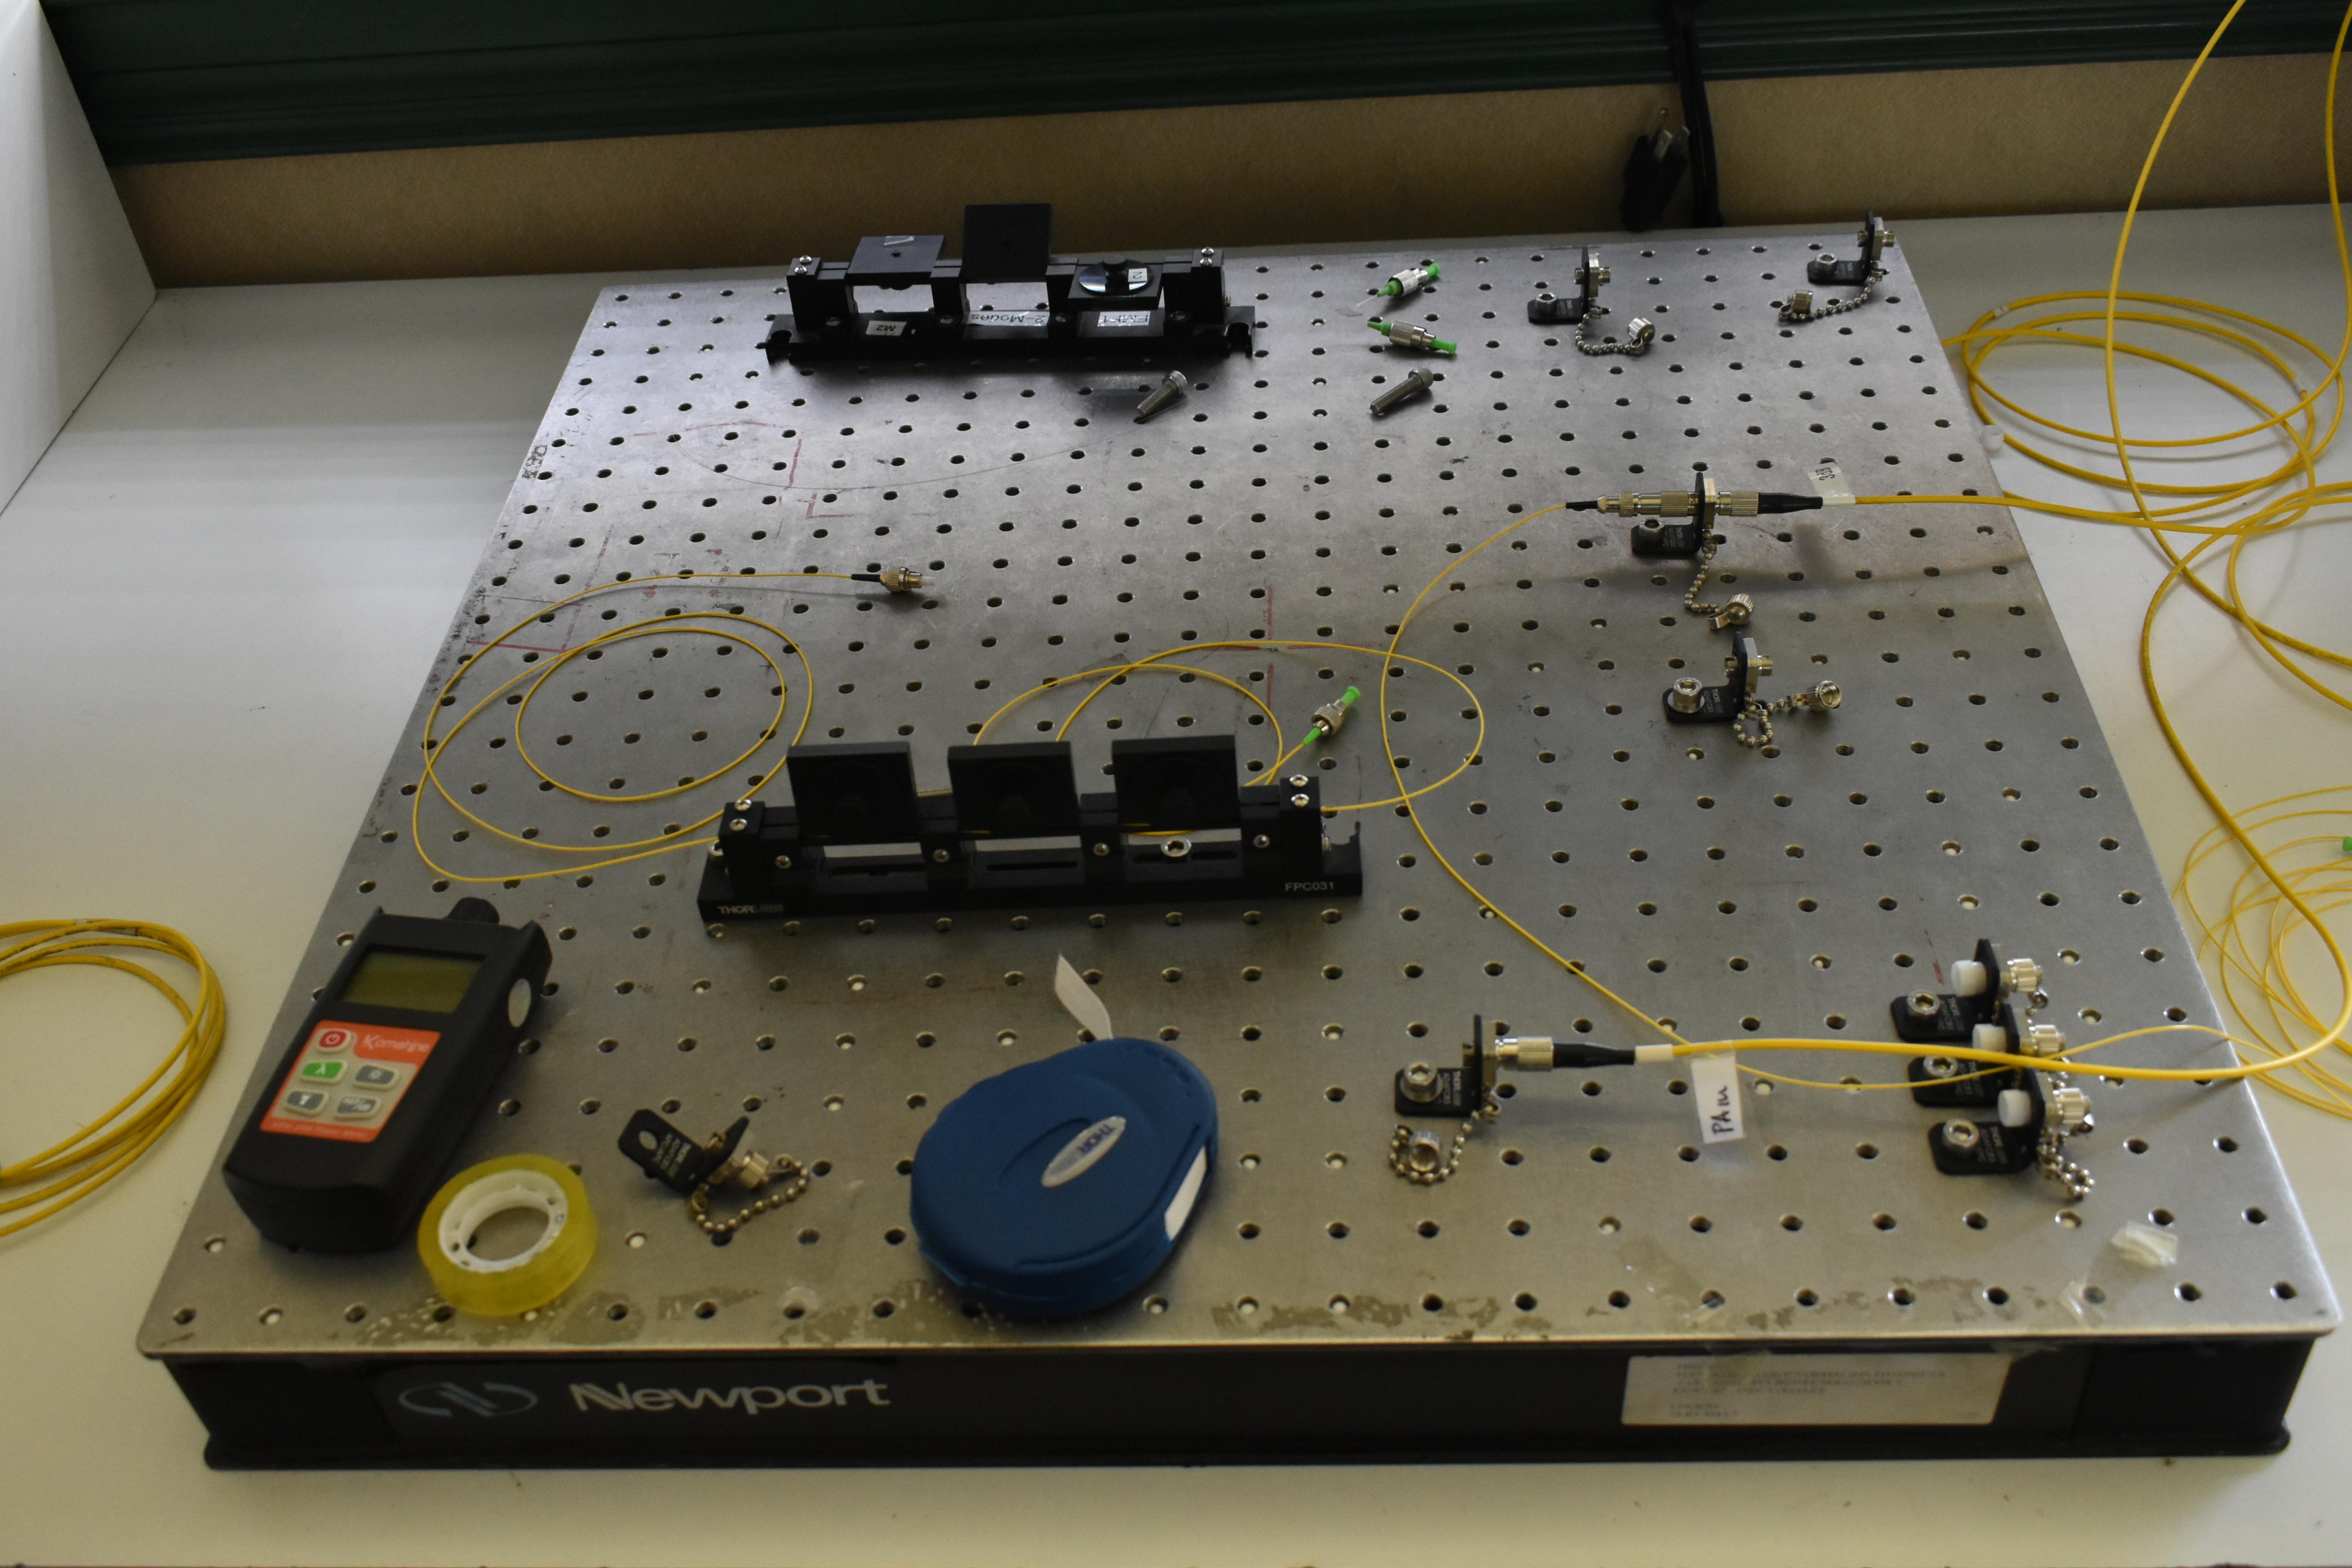fiber_cable: (403, 549, 911, 874), (1506, 1016, 1920, 1091)
paddle_polarization_controller: (694, 741, 1378, 916), (725, 225, 1283, 363)
powermeter: (213, 883, 562, 1262)
